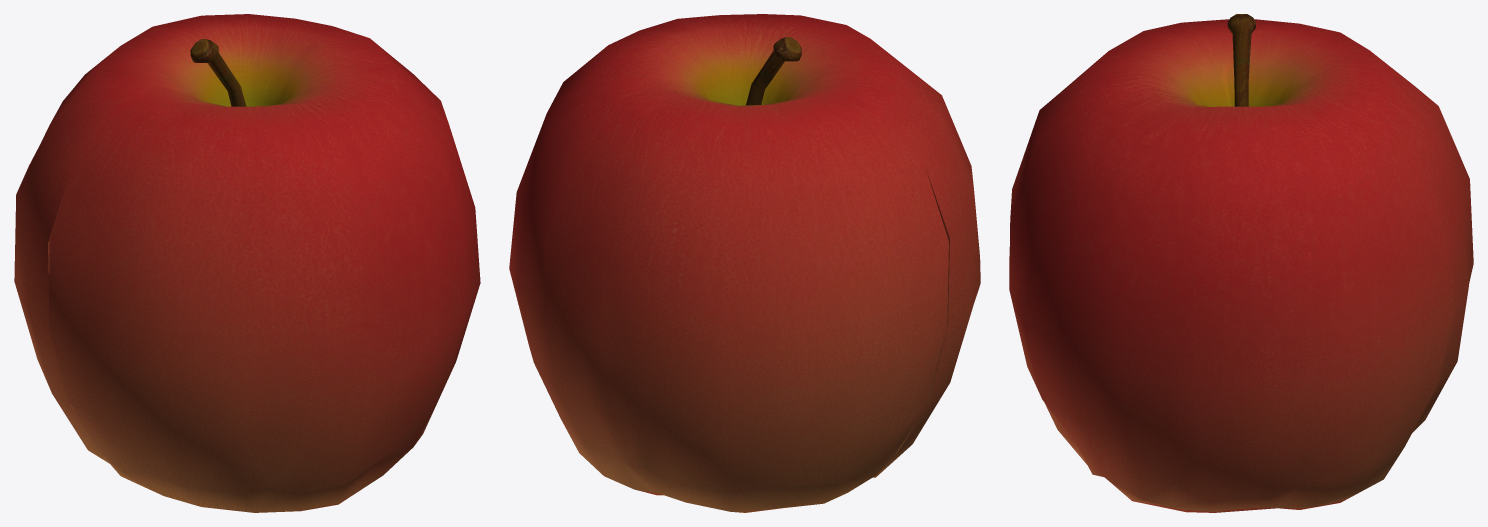
The model's file is apple.glb.
3 views of the same model, side by side, from view 1: azimuth 30°, elevation 25°; view 2: azimuth 150°, elevation 25°; view 3: azimuth 270°, elevation 25° (orthographic).
Visible parts, largest first — view 1: tripo_node_20d189b0-9f66-420e-8fbb-50c7f1890311.001; view 2: tripo_node_20d189b0-9f66-420e-8fbb-50c7f1890311.001; view 3: tripo_node_20d189b0-9f66-420e-8fbb-50c7f1890311.001.
Part boxes in pixels (<box>): tripo_node_20d189b0-9f66-420e-8fbb-50c7f1890311.001: <box>14,14,480,512</box>; tripo_node_20d189b0-9f66-420e-8fbb-50c7f1890311.001: <box>509,14,980,512</box>; tripo_node_20d189b0-9f66-420e-8fbb-50c7f1890311.001: <box>1009,14,1473,512</box>.
Size of the model in its own units: 0.0815 by 0.085 by 0.0817.
1 material, 1 textured.
